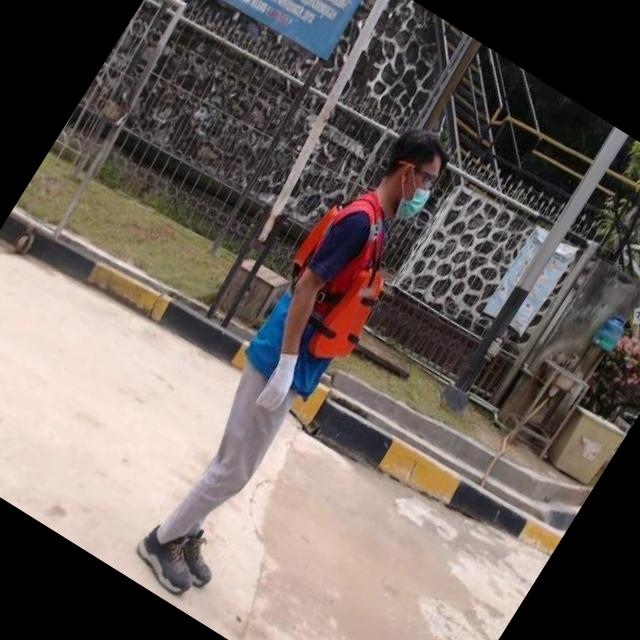safety_vest: (235, 174, 431, 410)
vehicle: (79, 78, 523, 640)
work_boots: (123, 514, 214, 602), (156, 520, 232, 600)
